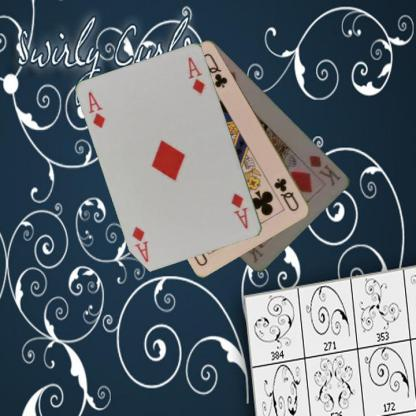Ad: (228, 190, 250, 231), (85, 89, 107, 130)
Kd: (306, 152, 342, 188)
Qc: (272, 176, 301, 212)
